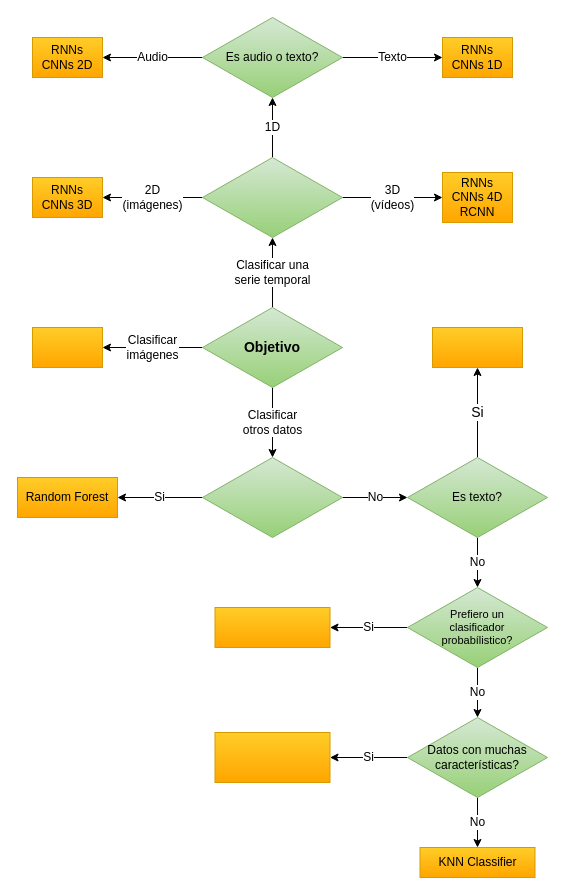
Some shapes in this 565 by 895 pixel diagram are drawn without their labels. Here are the shapes that lost their labels. From the top down, the centre of each, then its label:
At point 272,197: "Dimensión de los datos?".
At point 67,347: "CNNs 2D".
At point 477,347: "Naive Bayes SVC".
At point 272,497: "Muestras > 100k?".
At point 272,627: "Logistic Regression Naive Bayes".
At point 272,757: "SVC KNN Classifier Decission Tree".
